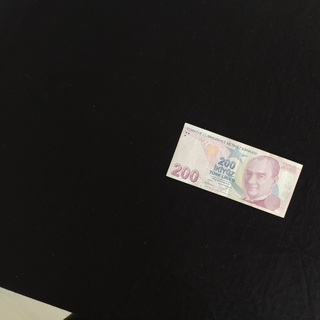200TLFront: (166, 122, 303, 217)
